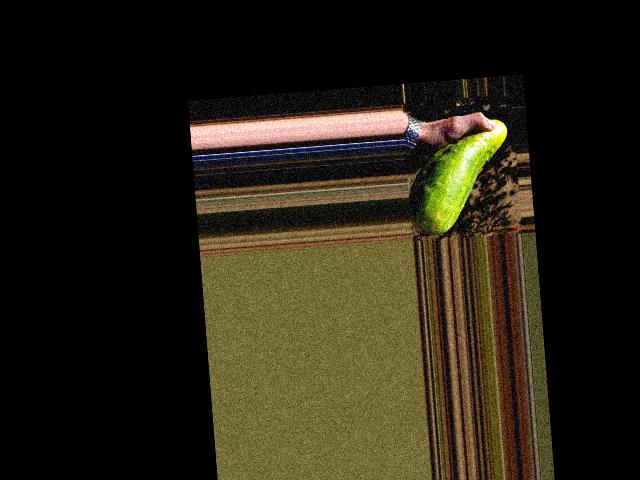cucumber: (402, 118, 514, 237)
